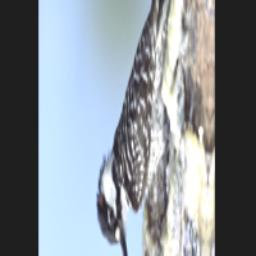Woodpecker: (93, 0, 194, 256)
